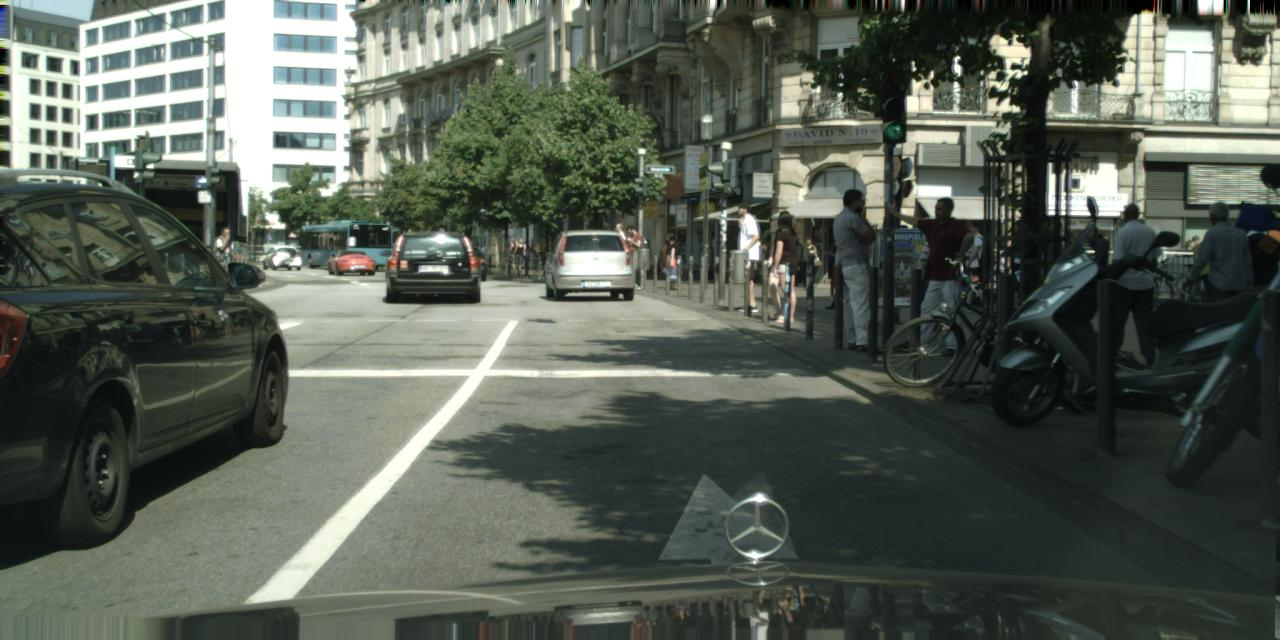ped: (1185, 198, 1255, 368), (1098, 200, 1166, 368), (820, 189, 885, 348), (906, 195, 970, 353), (725, 201, 770, 311), (768, 209, 808, 325), (210, 227, 238, 296), (622, 226, 647, 288), (609, 222, 634, 282), (658, 238, 684, 290), (796, 237, 817, 289), (965, 220, 982, 278), (824, 243, 836, 310), (509, 235, 525, 272), (919, 240, 930, 277), (1184, 234, 1200, 249), (967, 290, 981, 307), (922, 280, 929, 300), (963, 278, 963, 284)
